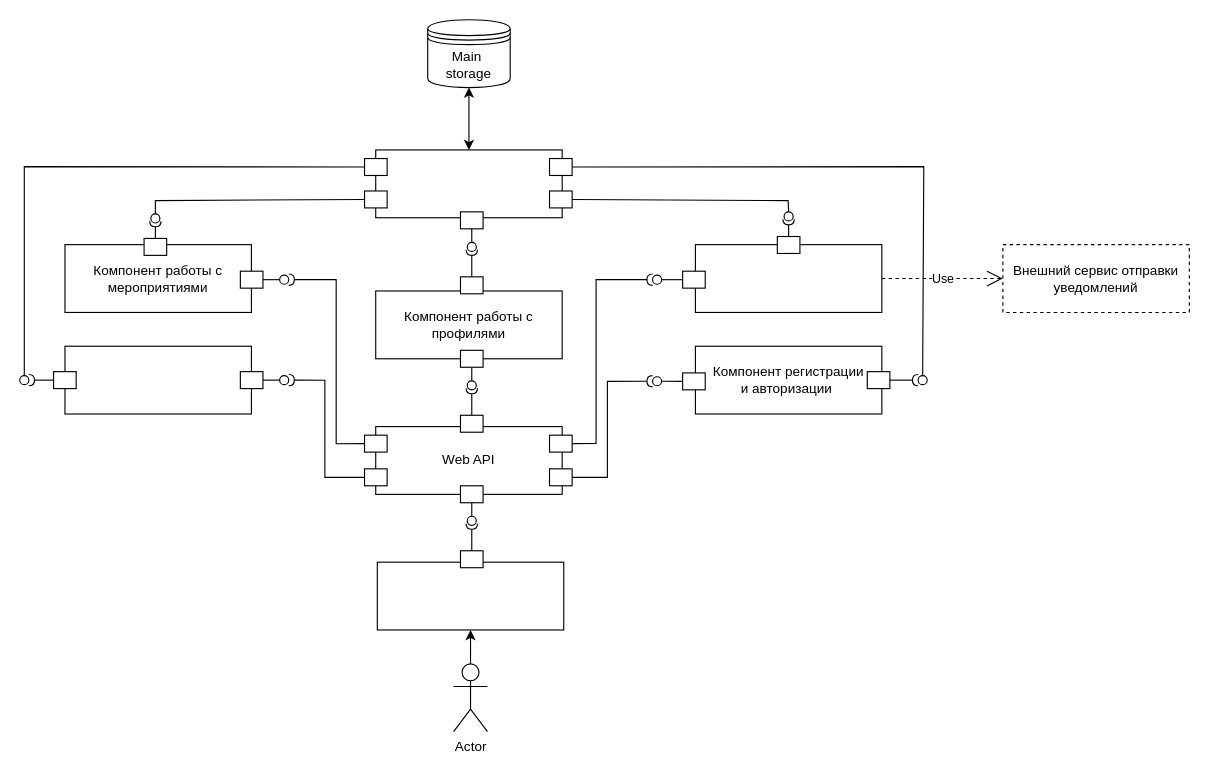
Image size: 1209x775. Some labels were removed from this diagram. The shapes that lost their labels are listed below. From the top down, each one's box as (x1, y1, x2, y2) in pixels, then its label:
(375, 149, 562, 218): Компонент доступа к данным
(694, 244, 882, 312): Компонент отправки напоминаний о мероприятиях
(64, 345, 251, 414): Компонент подбора команды
(376, 561, 564, 630): Web клиент
